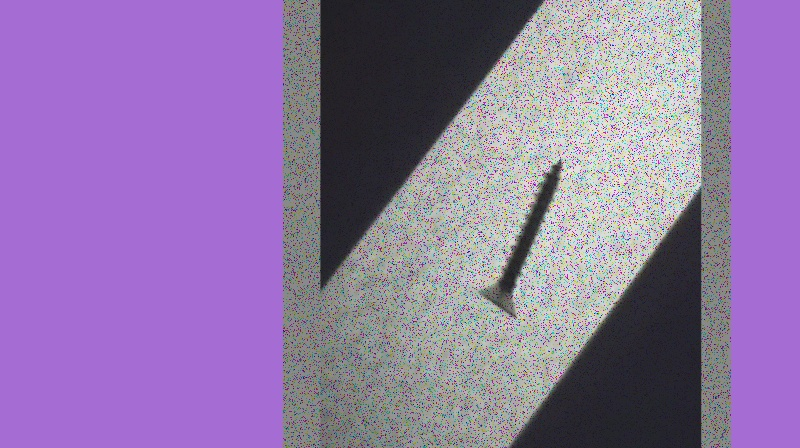S001: (474, 155, 564, 323)
